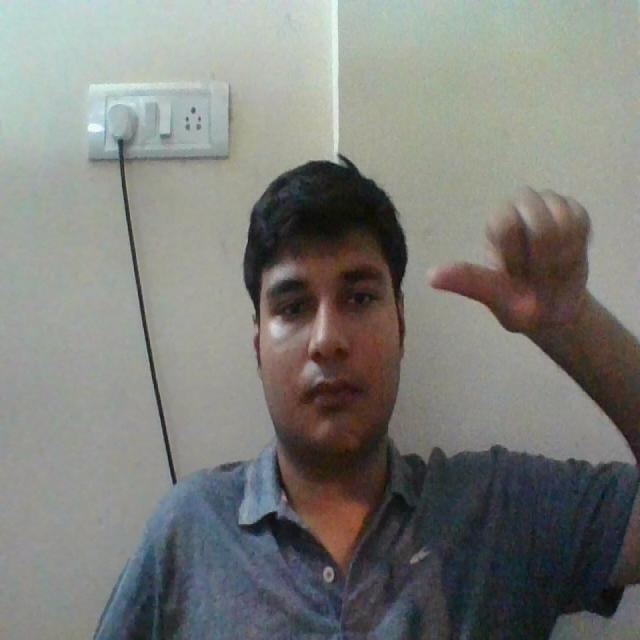Yes: (435, 176, 603, 347)
